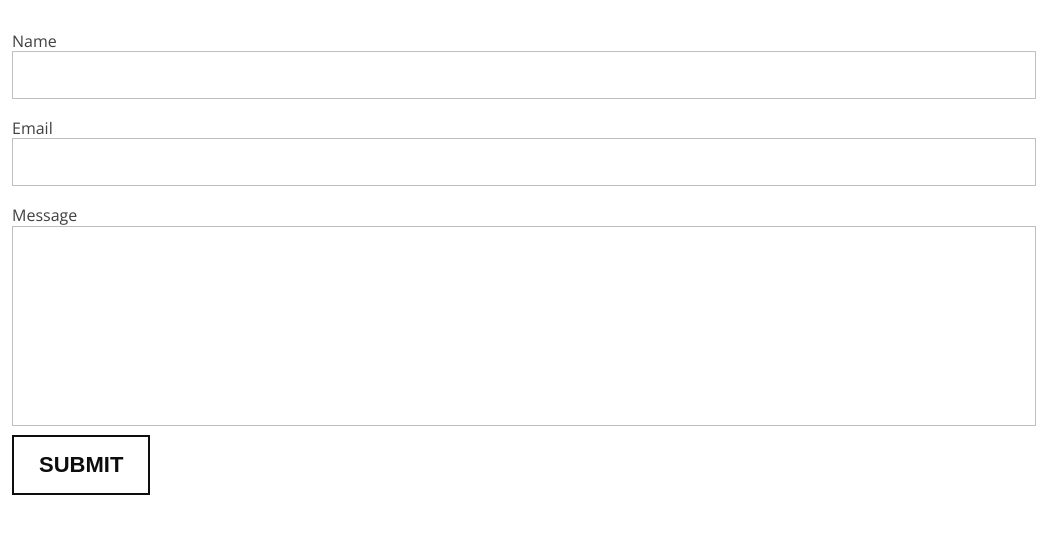
<ContactForm/> › throws an error when no message is provided
Type "John Doe" into the field labelled "Name".
click(524, 75); type("John Doe")  # box [12,51,1036,99]
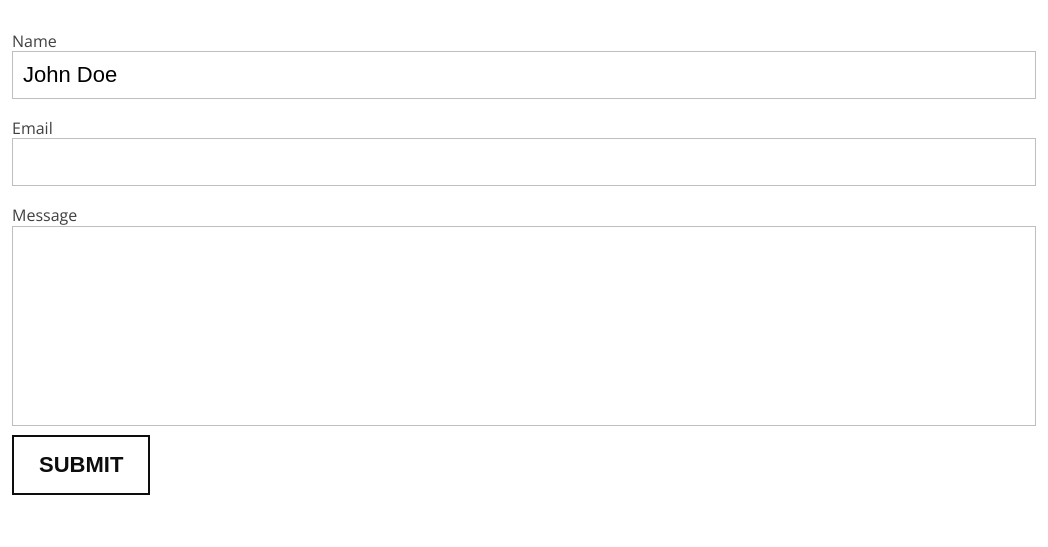
Type "test@test.com" into the field labelled "Email".
click(524, 162); type("test@test.com")  # box [12,138,1036,186]
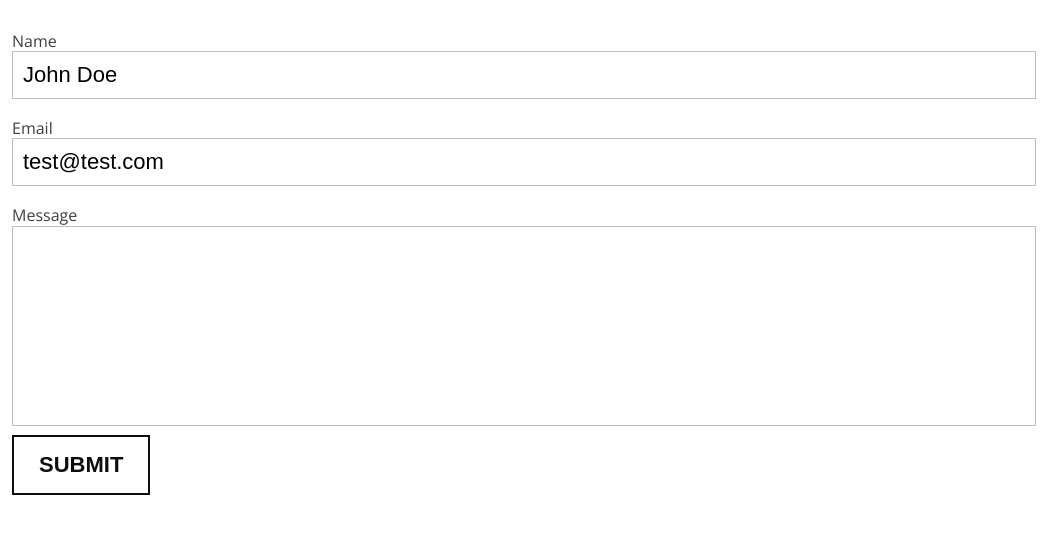
Click the button "Submit".
click(81, 465)  # box [12,435,150,495]
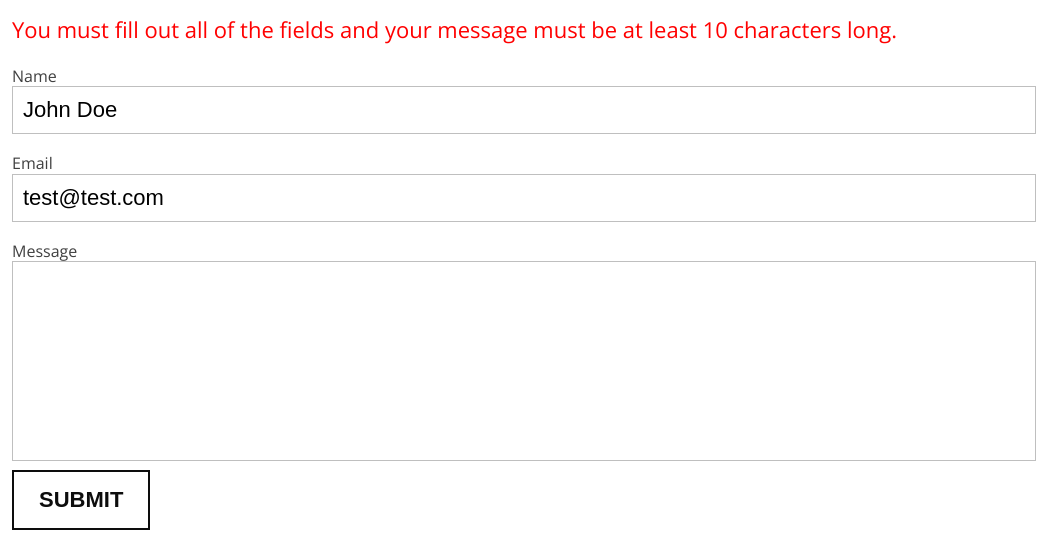
Check: the text "You must fill out" is shown, box [12,14,897,44]
